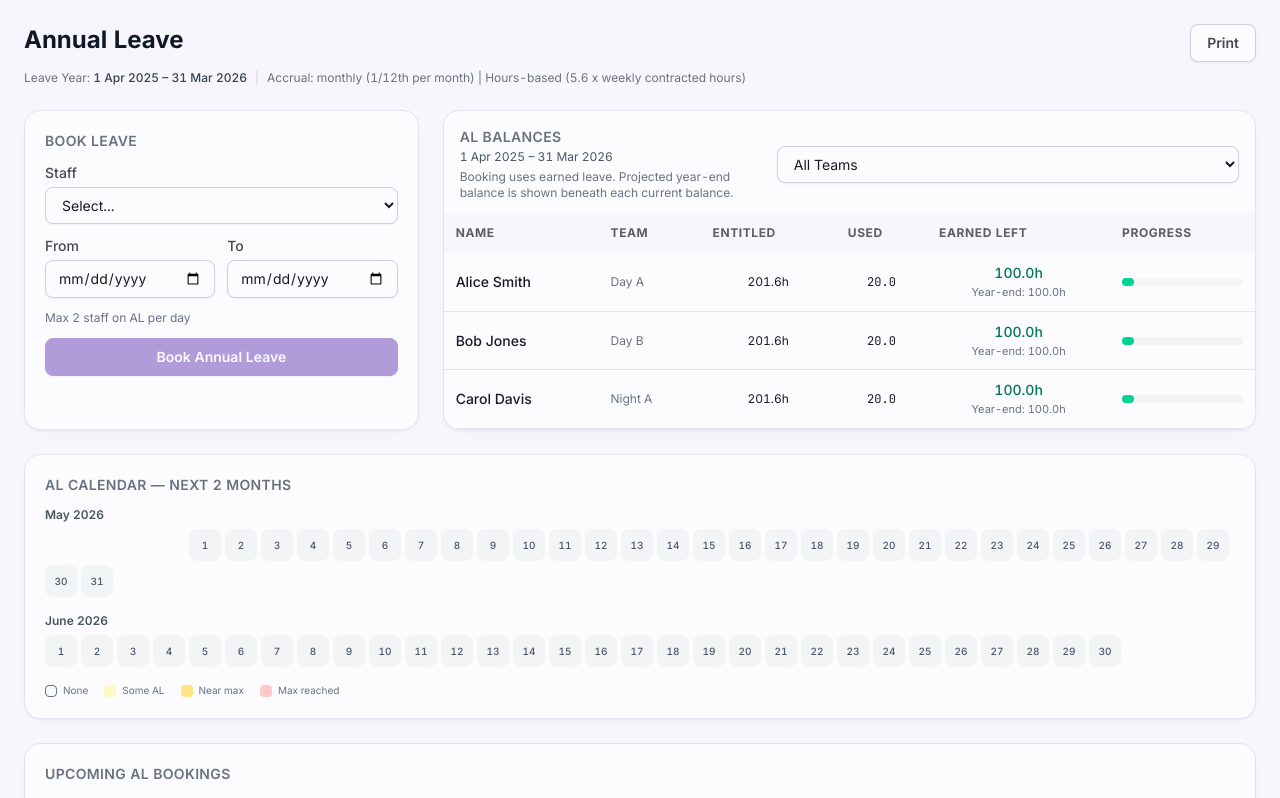
Test: AnnualLeave › shows unresolved cover gaps after booking when no automatic assignments are possible
The image size is (1280, 798).
Expected: the heading "Book Leave" is shown, [45,132,137,149]
Select "Alice Smith (Day A) — 100.0h earned left" in the dropdown labelled "Staff": (221, 206) [45,187,398,224]
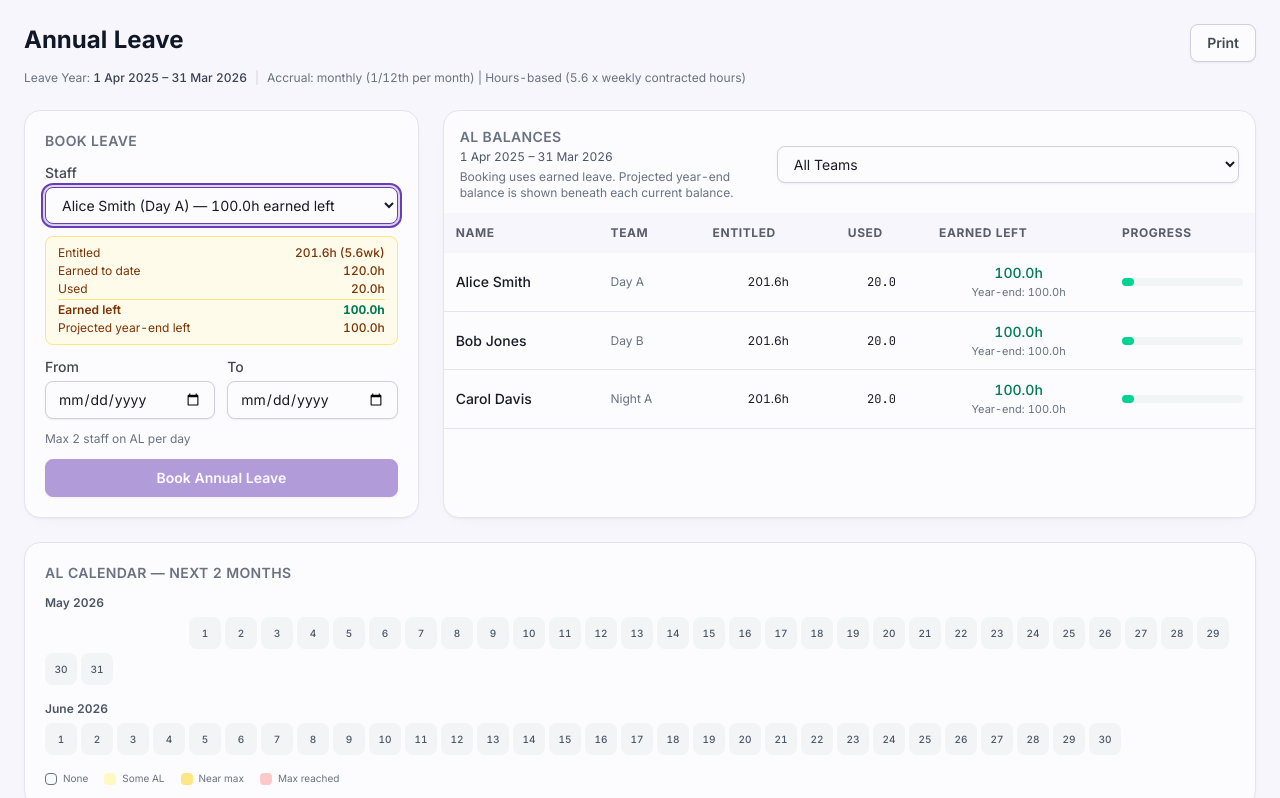
In the date field labelled "From": (130, 400) [45,381,215,419], type "2026-03-10"
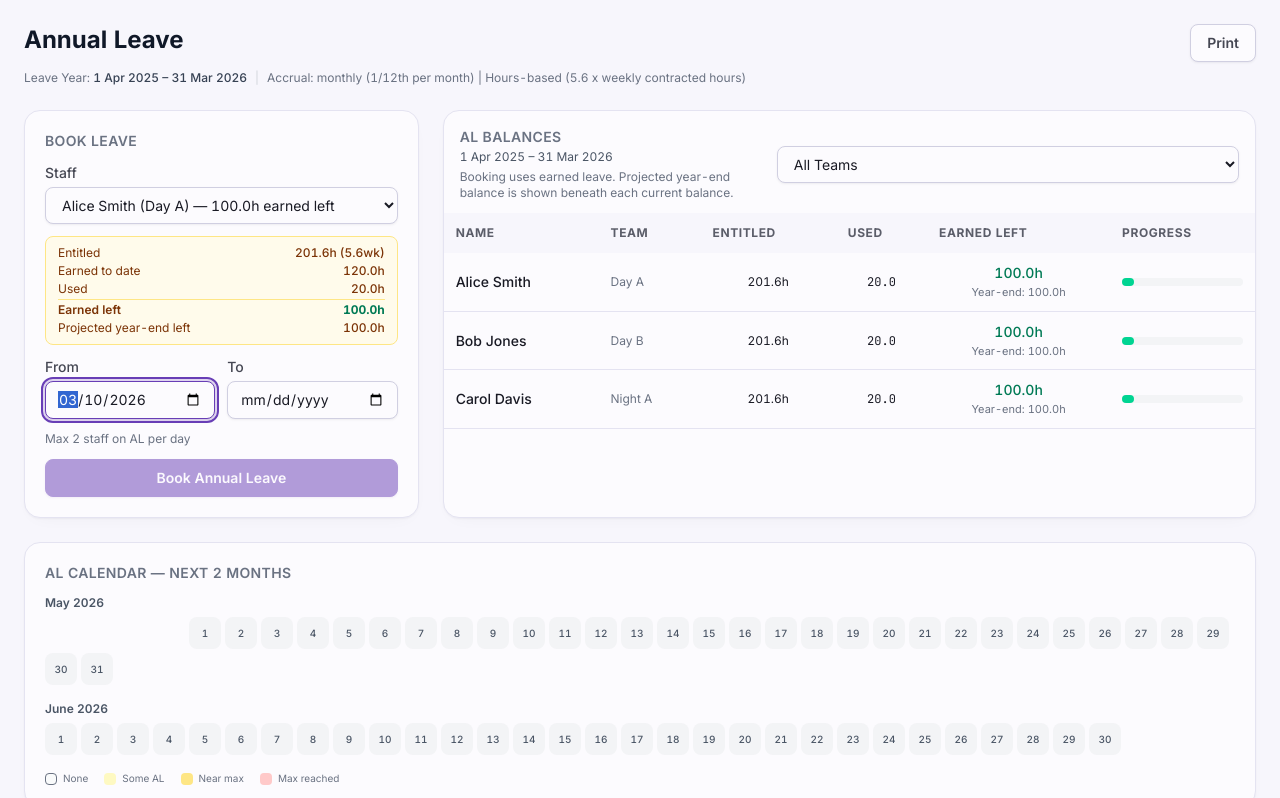
In the date field labelled "To": (312, 400) [227,381,398,419], type "2026-03-10"
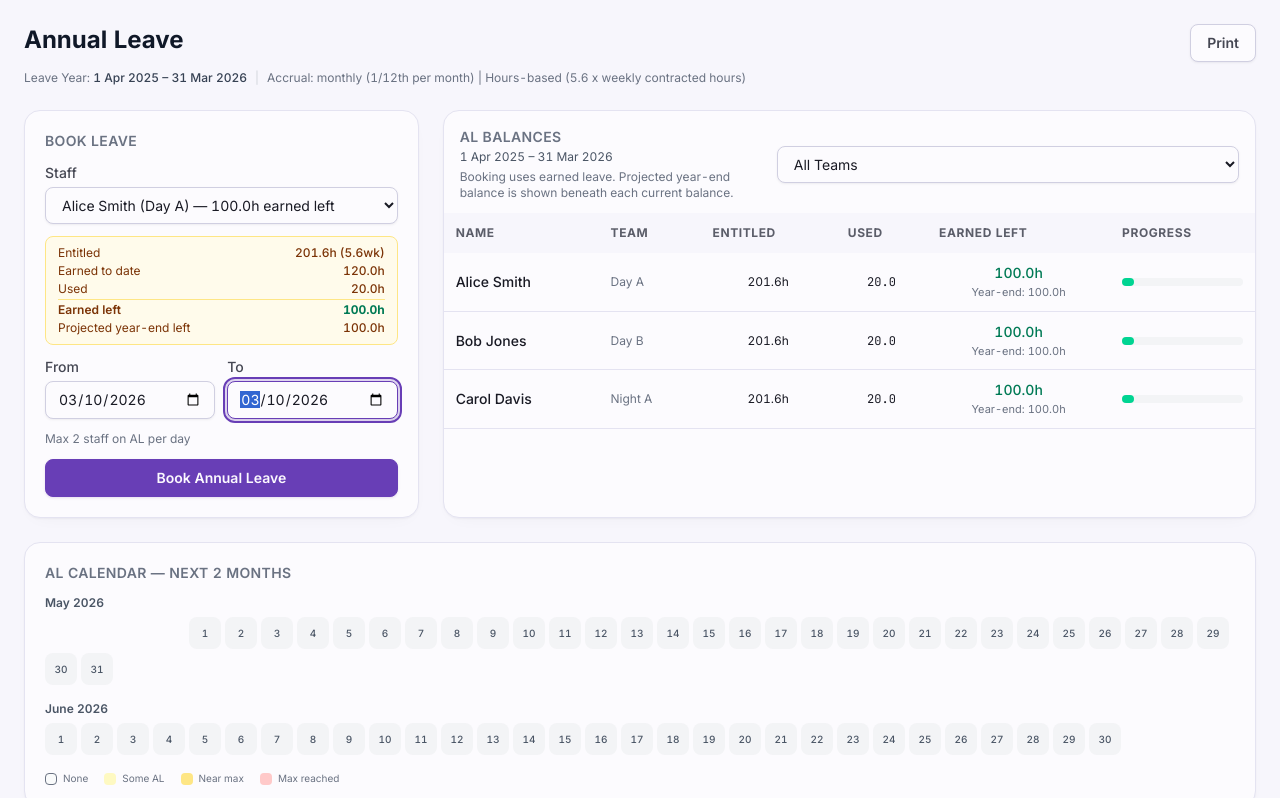
Expected: the button "Book Annual Leave" is enabled
Click the button "Book Annual Leave": click(221, 478) [45,459,398,497]
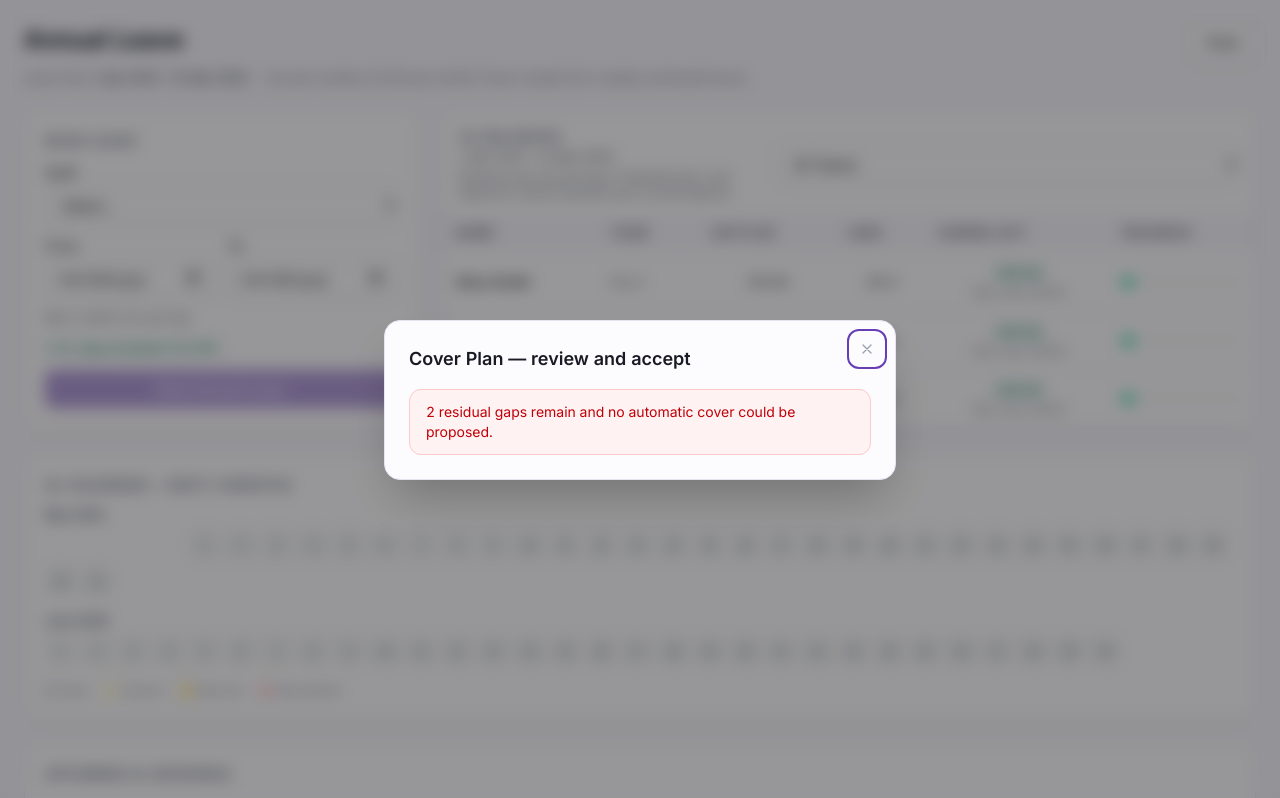
Expected: the text "2 residual gaps remain and no automatic cover could be proposed" is shown, [409,389,871,455]
